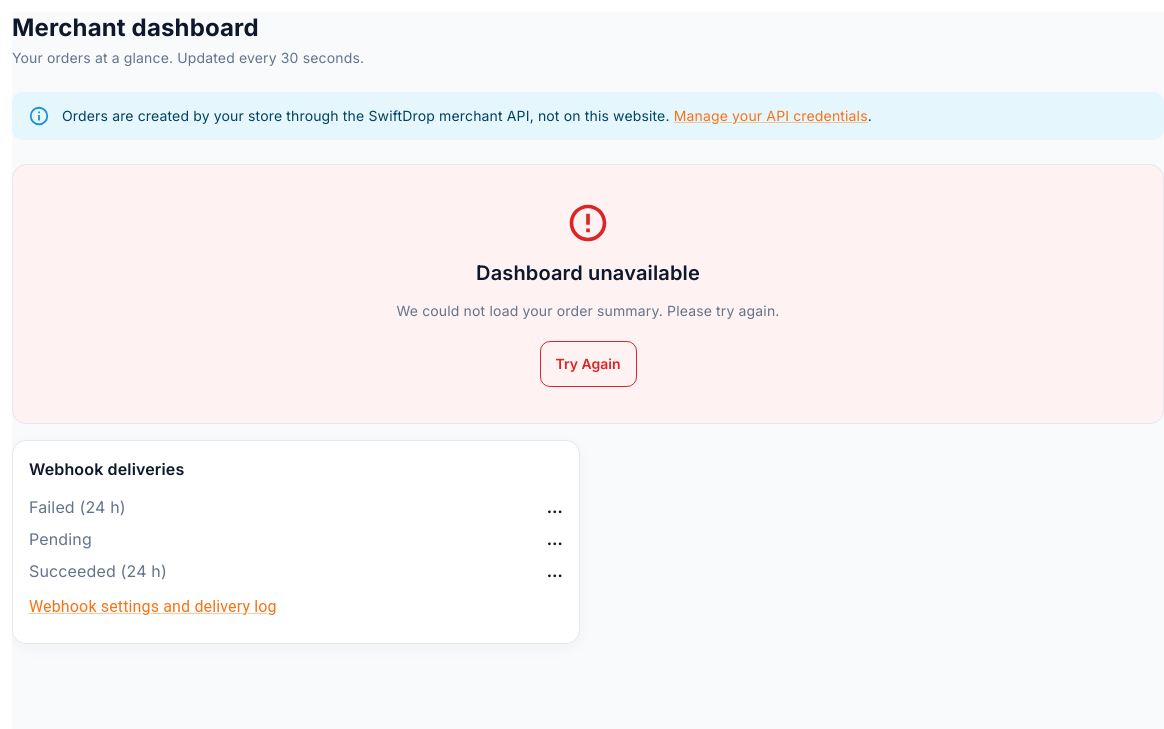
Test: TST-040 merchant dashboard (Member #6, FR-PAR-014, FR-UI-008) › shows an error with retry when the summary fails, and the webhook card still renders
This screenshot has width=1164, height=729.
Expected: the heading "Dashboard unavailable" is shown, x1=476 y1=257 x2=700 y2=289
Expected: the element "Webhook deliveries" is shown, x1=12 y1=440 x2=580 y2=644
Click the button "Try Again": (588,364) x1=540 y1=341 x2=636 y2=387
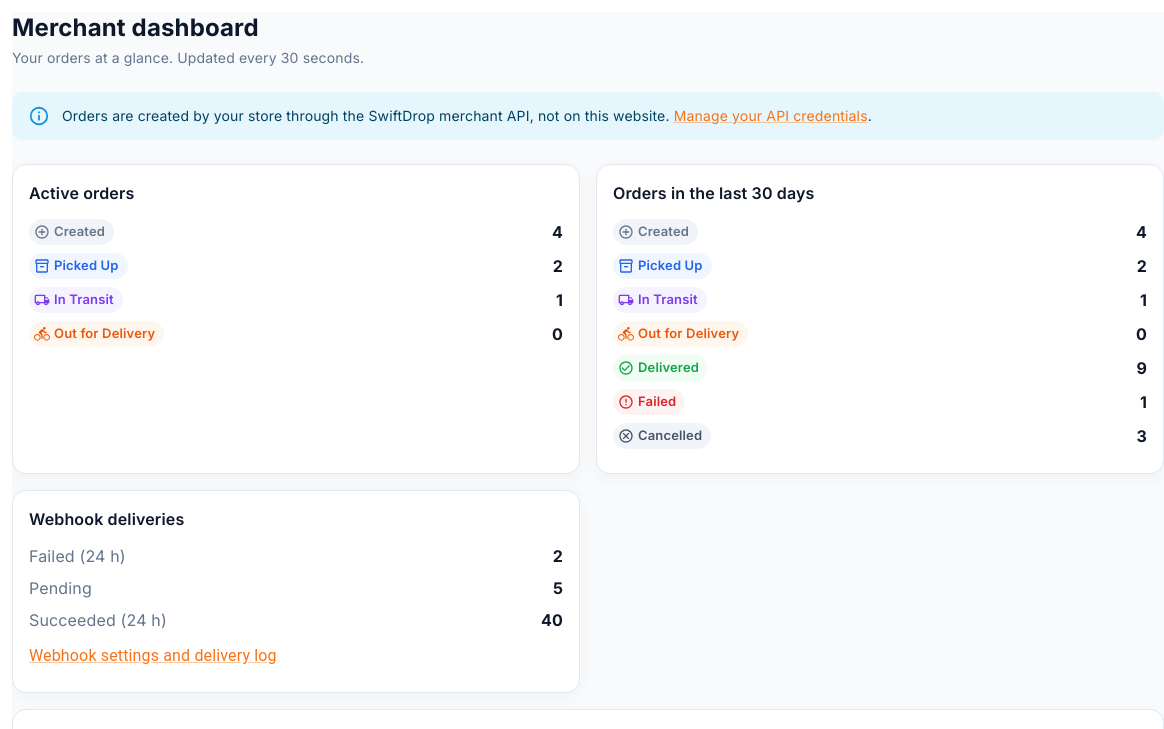
Result: the element "Active orders" is shown at x1=12 y1=164 x2=580 y2=474
